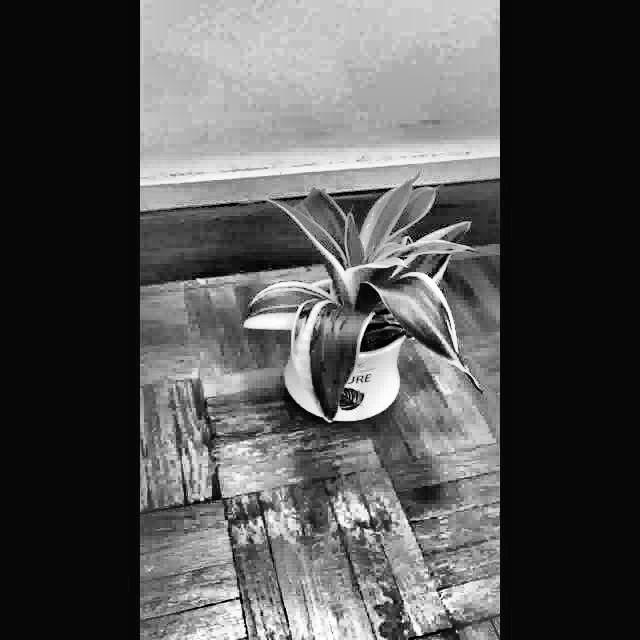plants: (232, 166, 494, 440)
